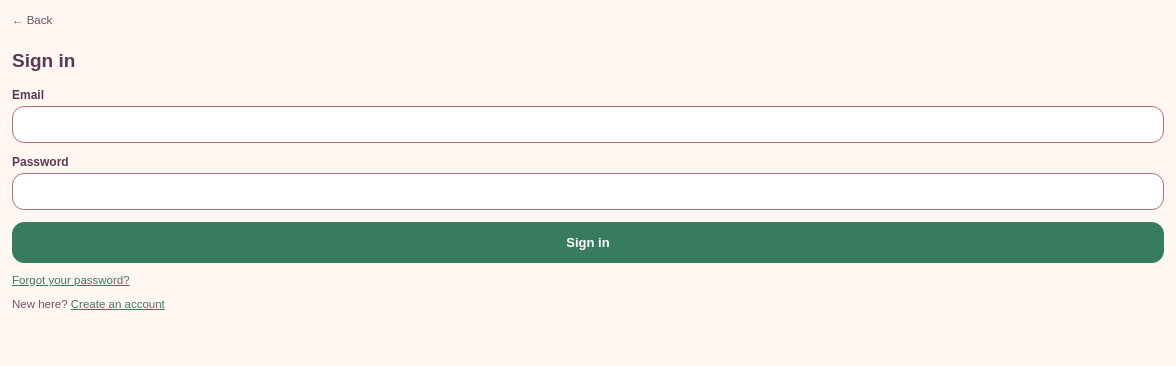
Test: LoginPage › shows why sign-in failed
The width and height of the screenshot is (1176, 366).
Type "ada@example.com" into the field labelled "Email" at (588, 124), box top-left (12, 106), bottom-right (1164, 142)
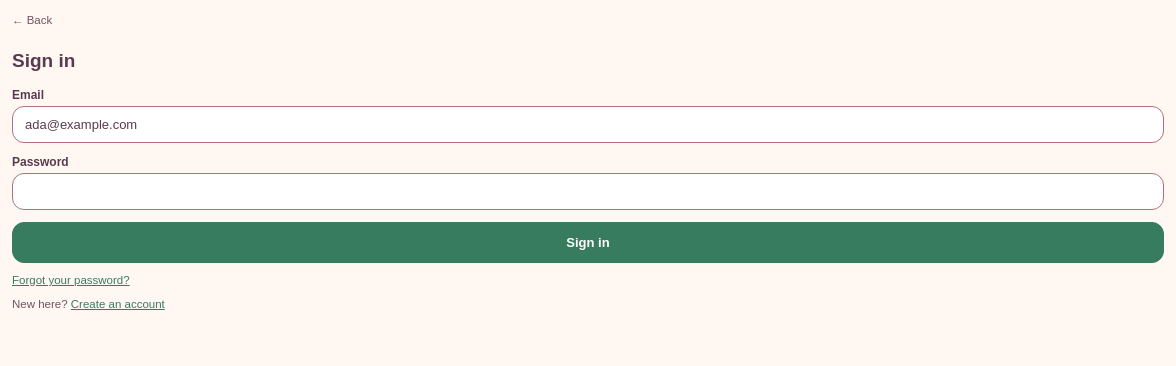
Type "pw" into the password field labelled "Password" at (588, 191), box top-left (12, 172), bottom-right (1164, 210)
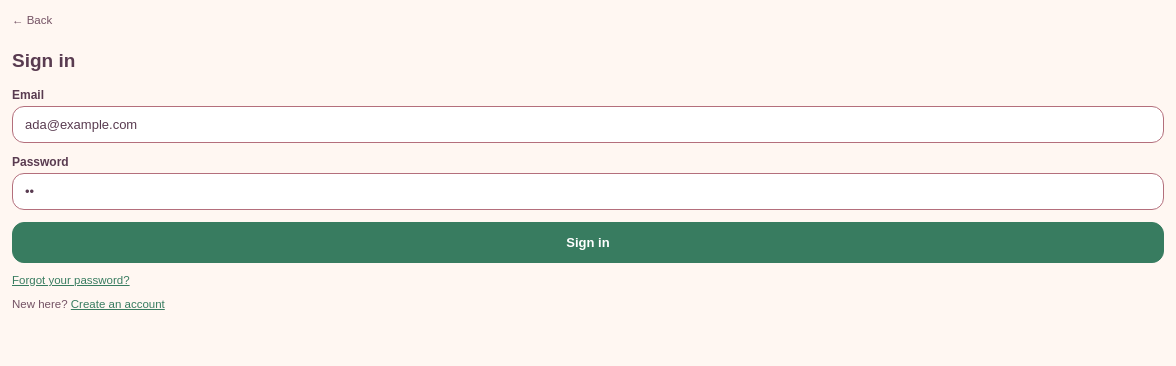
Click the button "Sign in" at (588, 242), box top-left (12, 222), bottom-right (1164, 262)
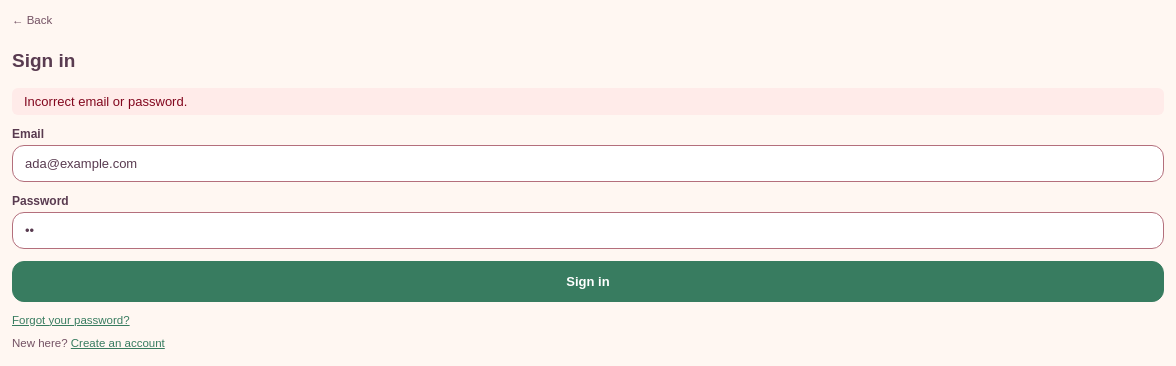
Check: the text "Incorrect email or password." is shown, box top-left (12, 88), bottom-right (1164, 115)
